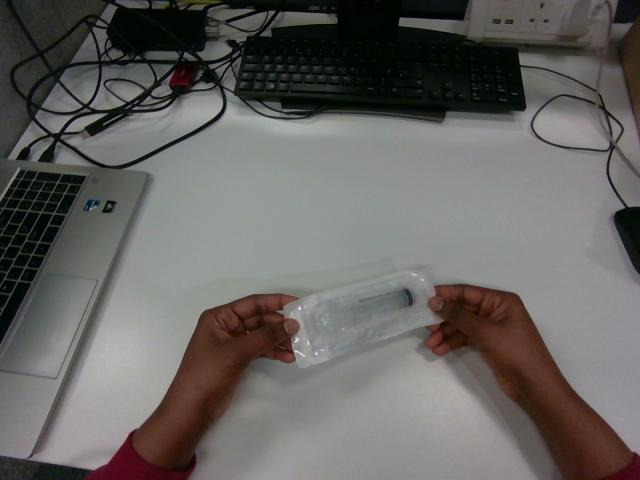syringe: (283, 268, 440, 367)
